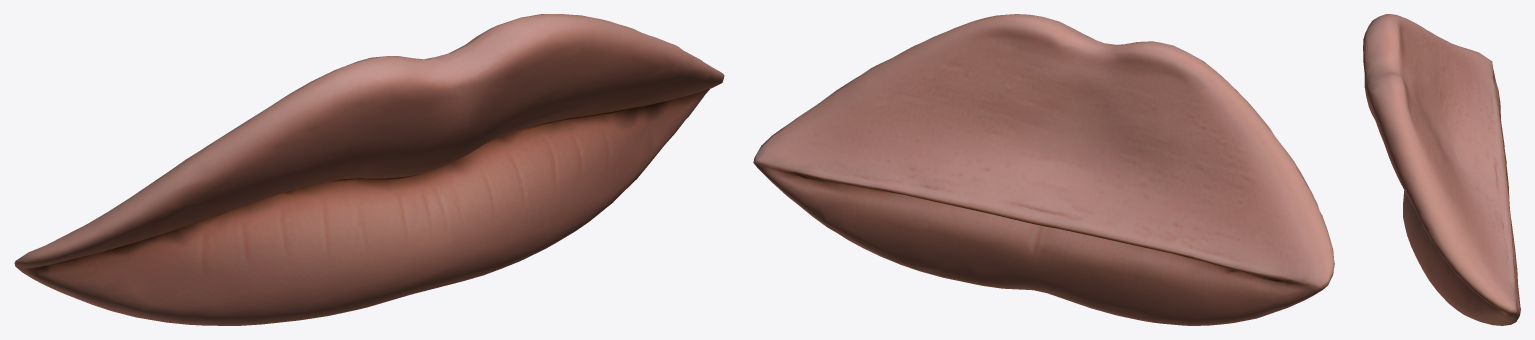
File: lip_thin.fbx
3 views of the same model, side by side, from view 1: azimuth 30°, elevation 25°; view 2: azimuth 150°, elevation 25°; view 3: azimuth 270°, elevation 25° (orthographic). The views are drawn at different scales.
Visible parts, largest first — view 1: 입술_얇은; view 2: 입술_얇은; view 3: 입술_얇은.
Part boxes in pixels (x1,y1,x2,y2): 입술_얇은: [14, 14, 724, 325]; 입술_얇은: [753, 14, 1334, 325]; 입술_얇은: [1363, 14, 1520, 325].
Bounding box in the file's own units: 10.2 × 3.9 × 2.7.
Materials: 1 (1 with a texture image).
